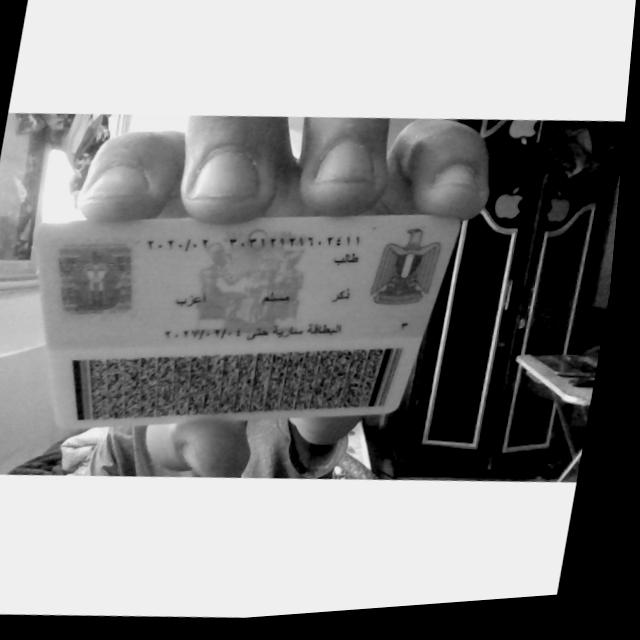id_card: (32, 214, 458, 425)
